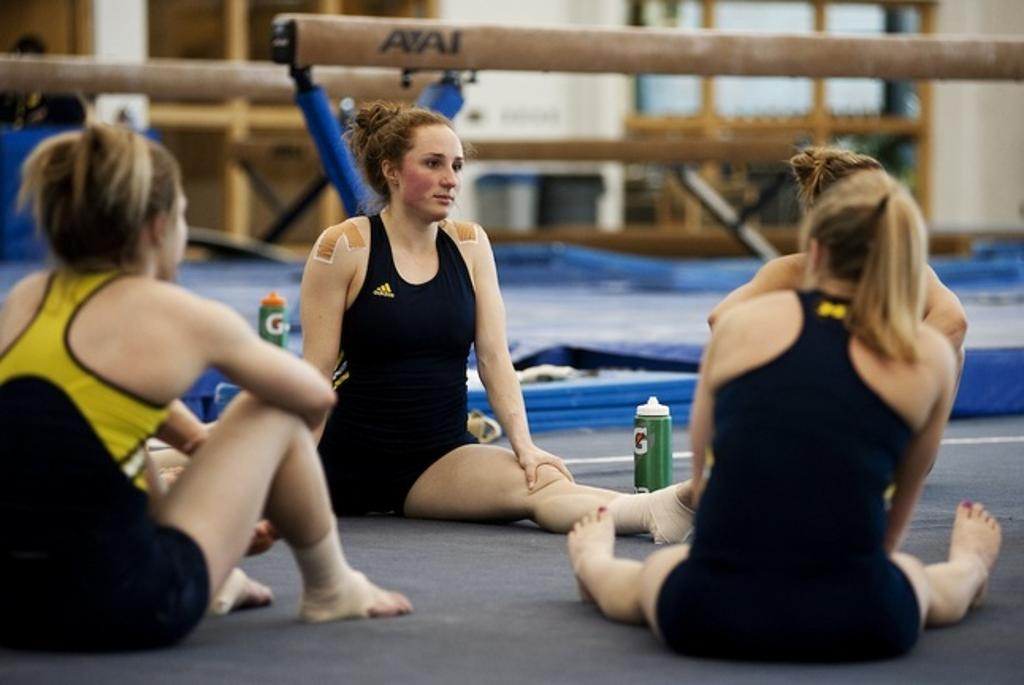face: (390, 114, 464, 218)
